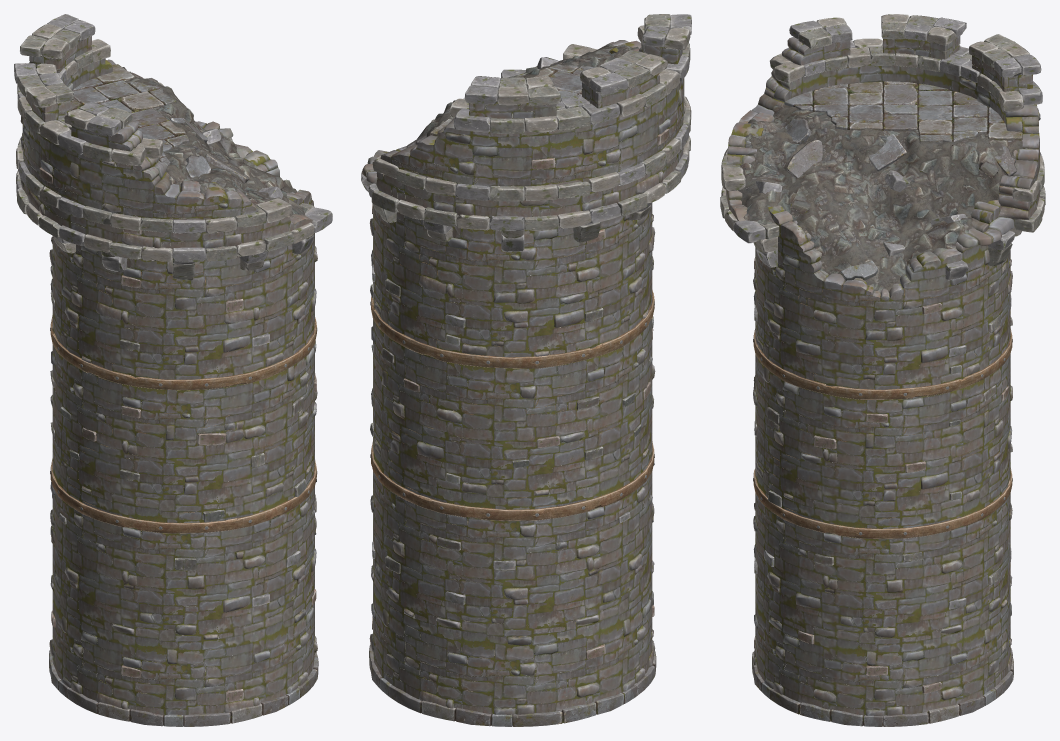
3 views of the same model, side by side, from view 1: azimuth 30°, elevation 25°; view 2: azimuth 150°, elevation 25°; view 3: azimuth 270°, elevation 25° (orthographic). The views are drawn at different scales.
Visible parts, largest first — view 1: SM_Fortress_Tower_4x12_01_v3_Dmg_LOD0; view 2: SM_Fortress_Tower_4x12_01_v3_Dmg_LOD0; view 3: SM_Fortress_Tower_4x12_01_v3_Dmg_LOD0.
Part boxes in pixels (x1,y1,x2,y2): SM_Fortress_Tower_4x12_01_v3_Dmg_LOD0: (14,14,332,726); SM_Fortress_Tower_4x12_01_v3_Dmg_LOD0: (361,14,691,726); SM_Fortress_Tower_4x12_01_v3_Dmg_LOD0: (720,14,1045,726).
Bounding box in the file's own units: 8.44 × 18.66 × 9.33.
6 materials, 6 textured.
